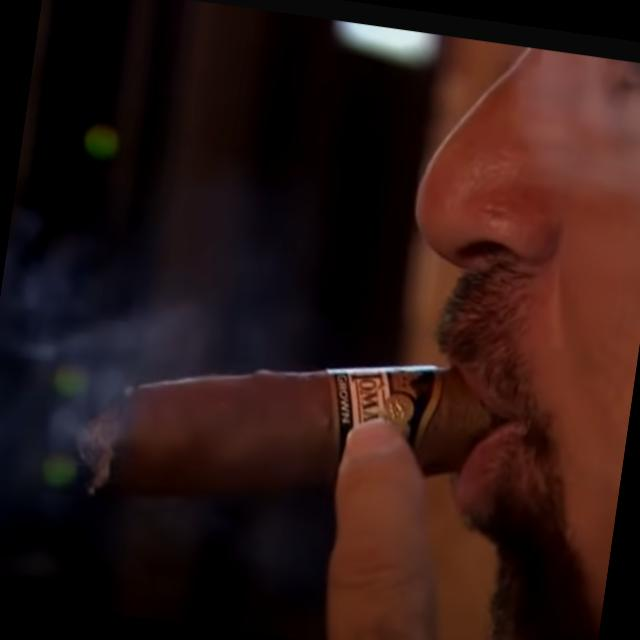smoke: (65, 352, 348, 534)
